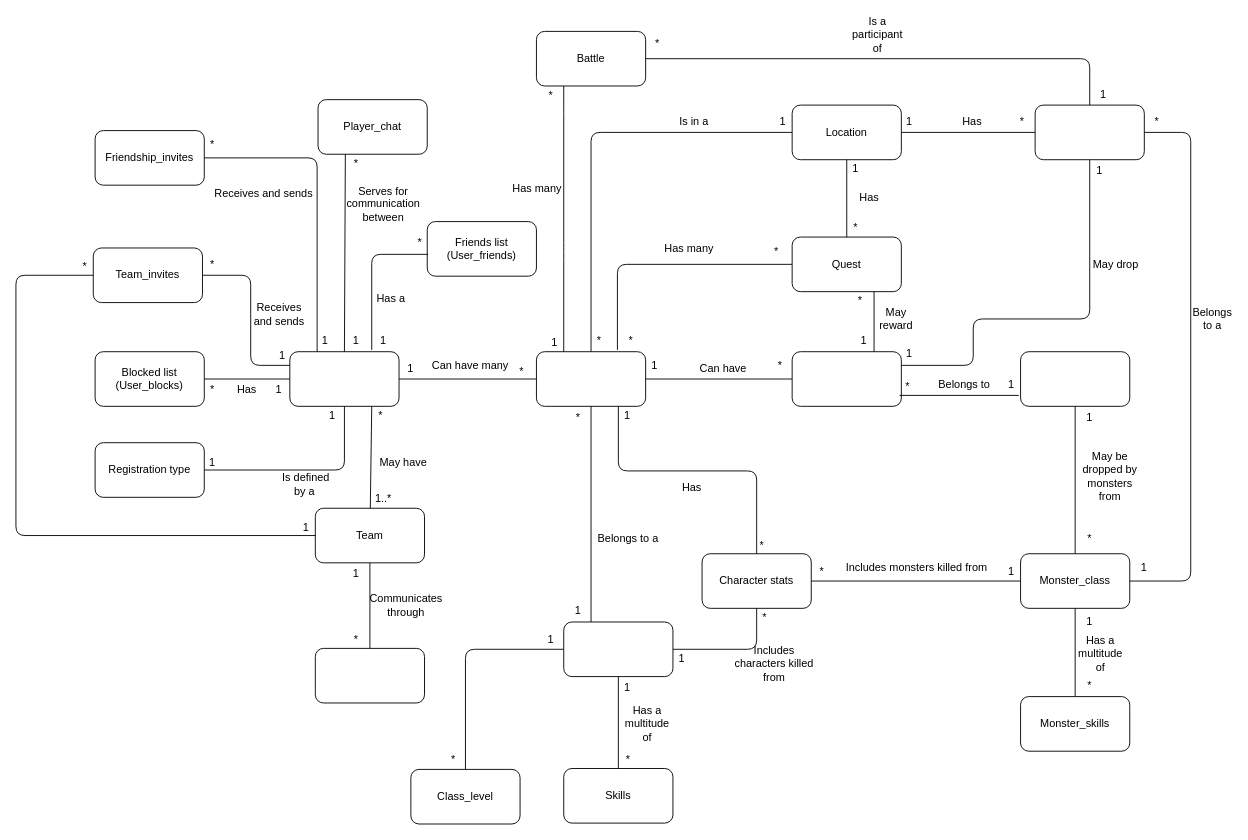
This 1248x840 diagram has some shape labels left out. The shapes that lost their labels are listed below. From the top down, each one's centre as x and y in pixels, then its label:
(1089,132): Monster
(344,378): Player
(591,378): Character
(846,378): Items
(1075,378): Item_class
(618,649): Class
(369,675): Team_chat
